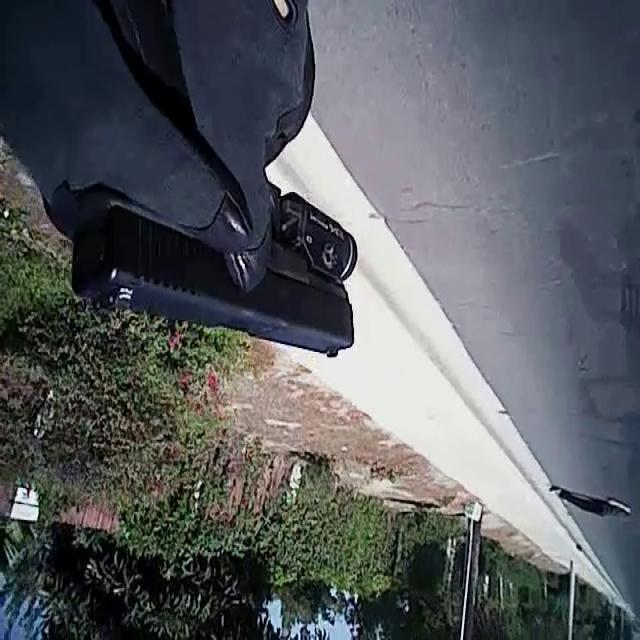gun: (25, 41, 388, 419)
